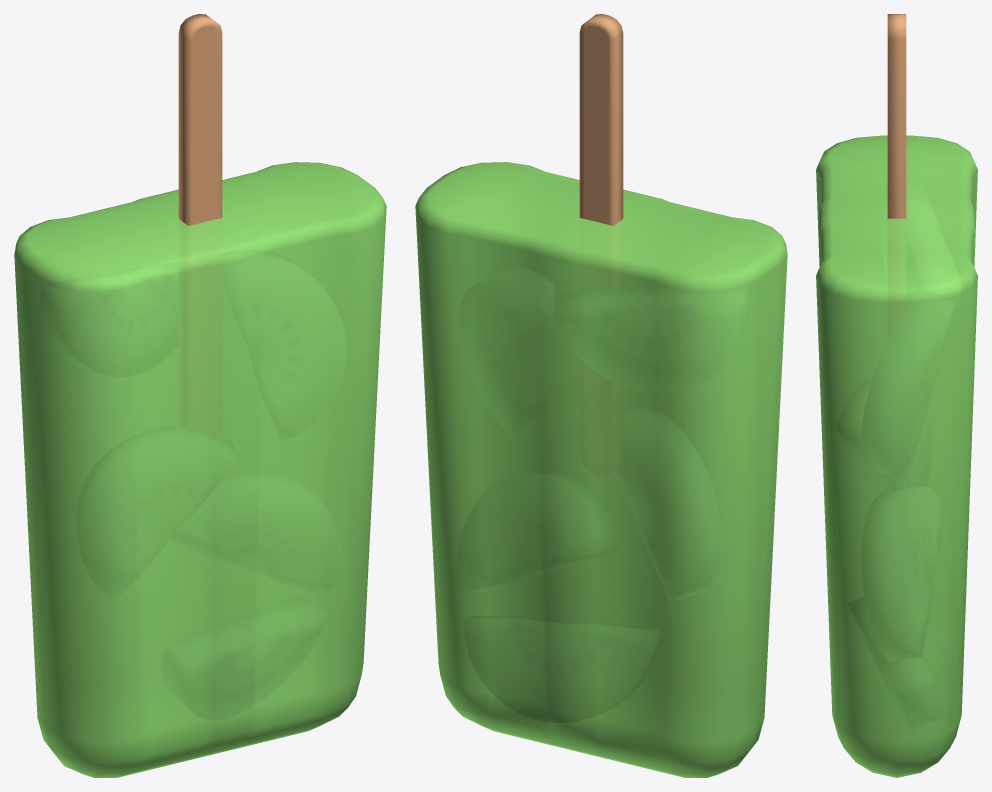
Rendered from popsicles_kiwi.fbx.
The picture shows the model from 3 angles, left to right: view 1: azimuth 30°, elevation 25°; view 2: azimuth 150°, elevation 25°; view 3: azimuth 270°, elevation 25°; orthographic projection. The views are drawn at different scales.
Visible parts, largest first — view 1: popsicles_kiwi; view 2: popsicles_kiwi; view 3: popsicles_kiwi.
Boxes of the visible parts, x1=… form: popsicles_kiwi: x1=14, y1=14, x2=386, y2=777; popsicles_kiwi: x1=415, y1=14, x2=787, y2=777; popsicles_kiwi: x1=816, y1=14, x2=977, y2=777.
Size of the model in its own units: 200 by 413 by 85.34.
